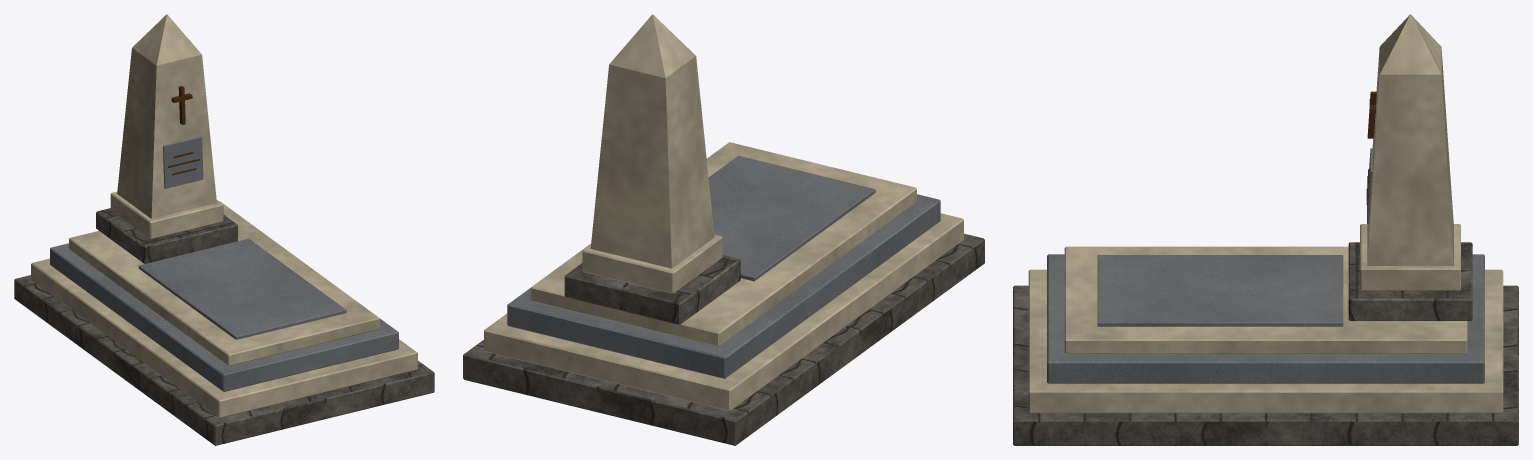
Rendered from tumba_04_base_escalonada.obj.
3 renders of one model, left to right at view 1: azimuth 30°, elevation 25°; view 2: azimuth 150°, elevation 25°; view 3: azimuth 270°, elevation 25°, orthographic. The views are drawn at different scales.
Visible parts, largest first — view 1: Tumba_04_Base_Escalonada; view 2: Tumba_04_Base_Escalonada; view 3: Tumba_04_Base_Escalonada.
Part boxes in pixels (x1=…): Tumba_04_Base_Escalonada: x1=14, y1=14, x2=434, y2=445; Tumba_04_Base_Escalonada: x1=463, y1=14, x2=984, y2=445; Tumba_04_Base_Escalonada: x1=1013, y1=14, x2=1518, y2=445.
Bounding box in the file's own units: 1.55 × 1.95 × 2.45.
Materials: 5 (3 with a texture image).
